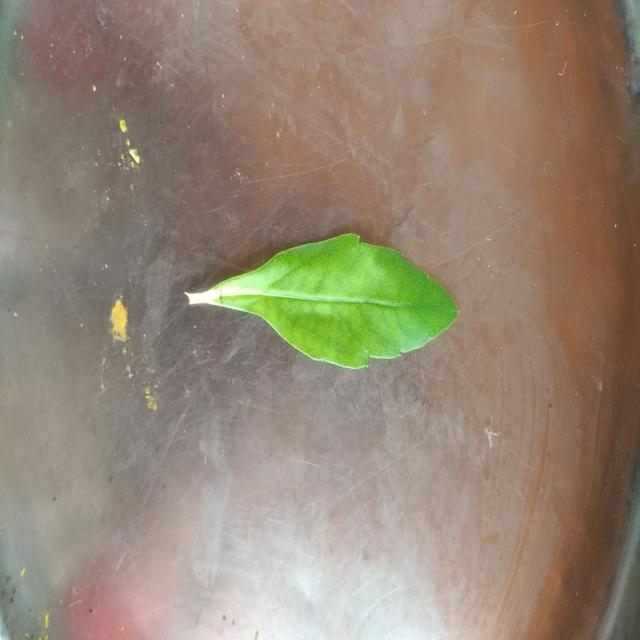bringaraja: (186, 233, 458, 369)
